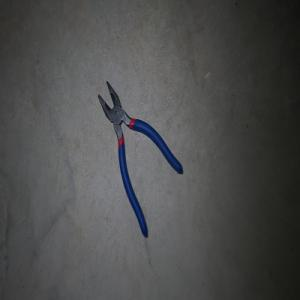Pliers: (97, 80, 183, 238)
